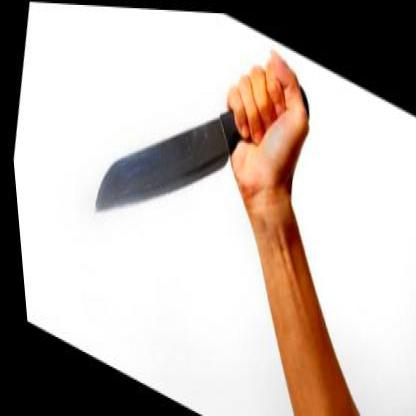knife: (71, 3, 298, 306)
